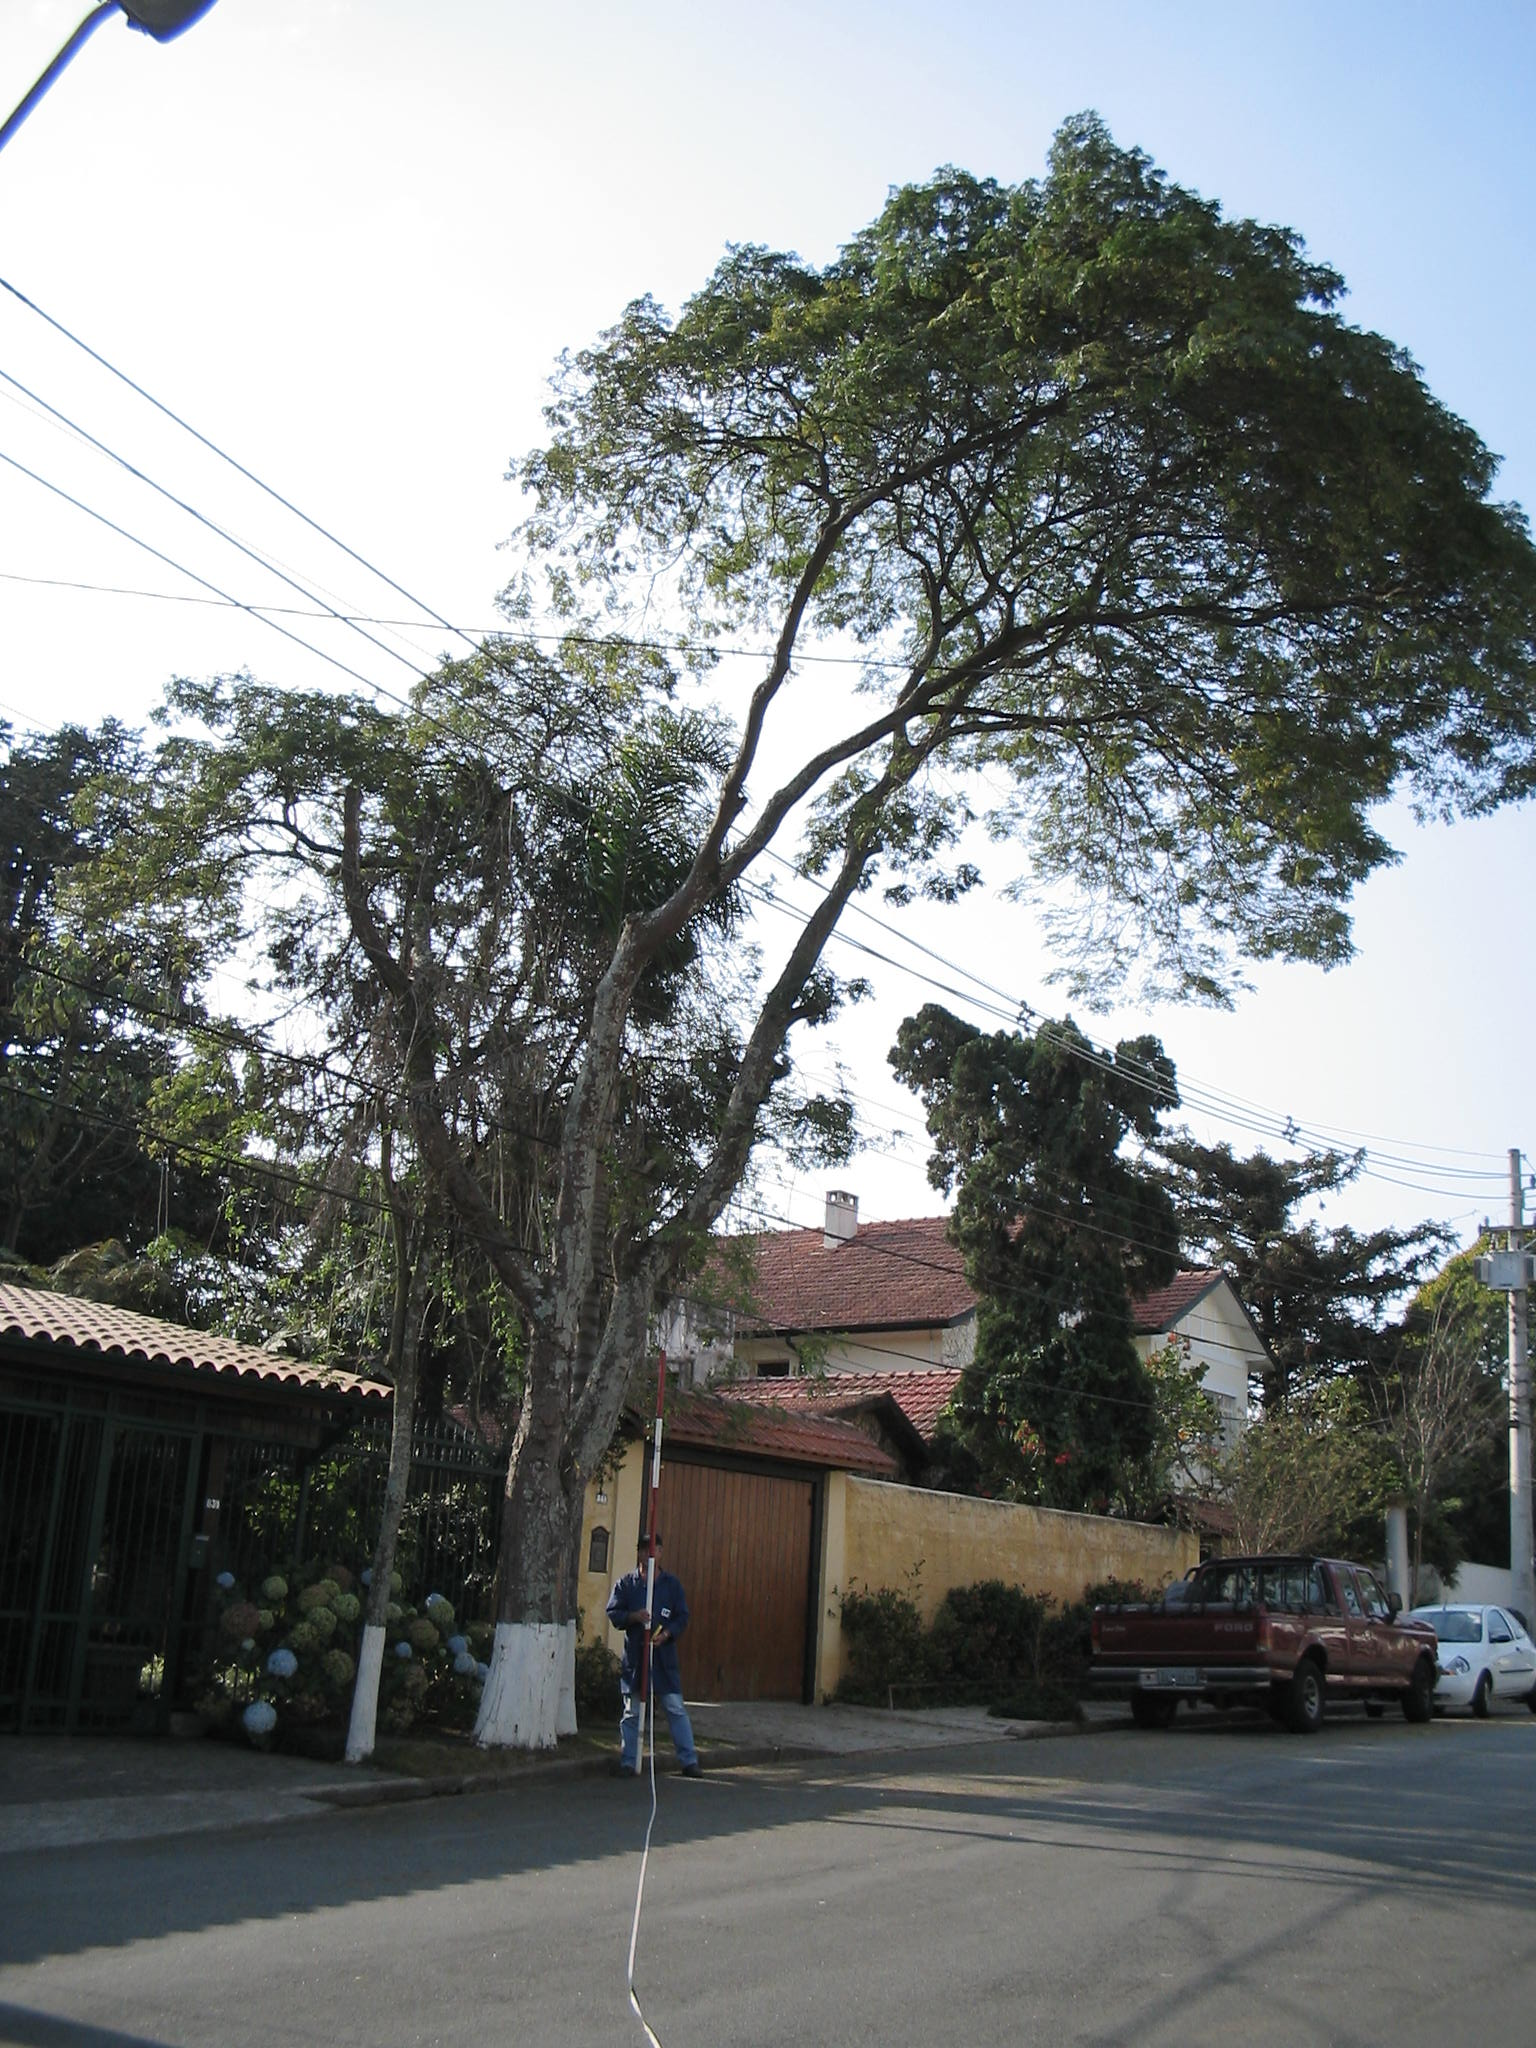crown: (349, 116, 1536, 1035)
stem: (449, 1437, 623, 1746)
stick: (623, 1345, 694, 1775)
tree: (344, 108, 1536, 1758)
